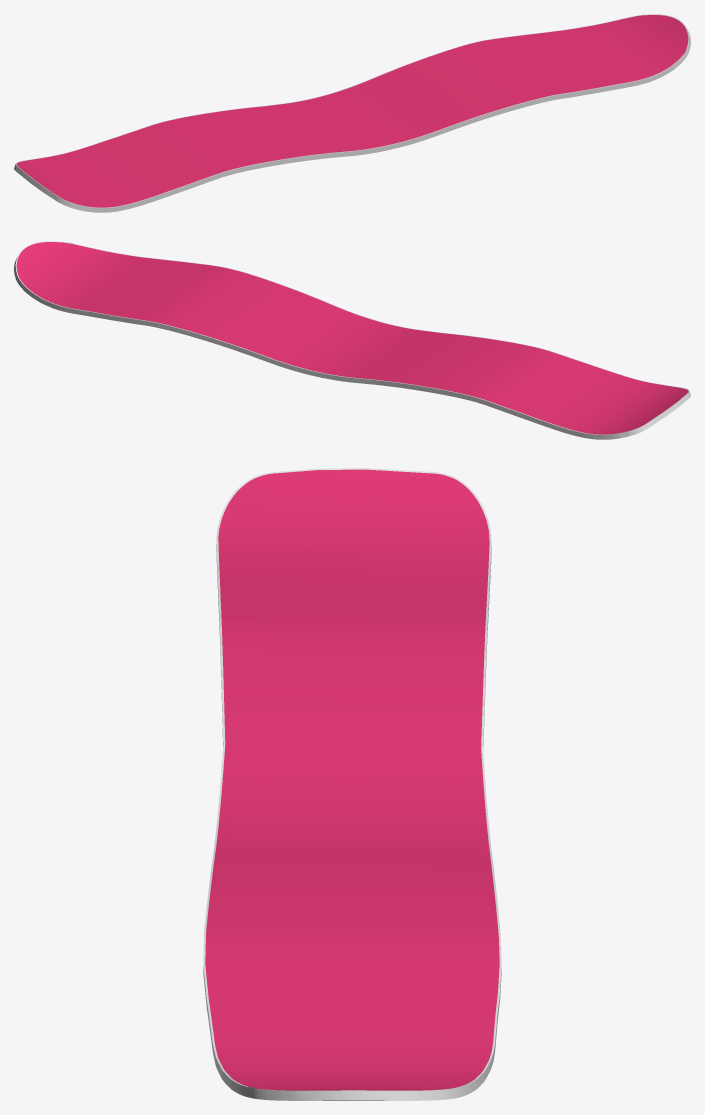
Rendered from board_tapered_hybrid-rocker.gltf.
The picture shows the model from 3 angles, top to bottom: view 1: azimuth 30°, elevation 25°; view 2: azimuth 150°, elevation 25°; view 3: azimuth 270°, elevation 25°; orthographic projection. The views are drawn at different scales.
Parts seen in each view (by area): view 1: board-top, board-edge; view 2: board-top, board-edge; view 3: board-top, board-edge.
Boxes of the visible parts, x1=… form: board-top: x1=16, y1=15, x2=688, y2=207; board-edge: x1=14, y1=14, x2=690, y2=212; board-top: x1=16, y1=242, x2=688, y2=434; board-edge: x1=14, y1=241, x2=690, y2=439; board-top: x1=205, y1=469, x2=499, y2=1090; board-edge: x1=203, y1=468, x2=501, y2=1100.
Bounding box in the file's own units: 1.47 × 0.0544 × 0.2932.
